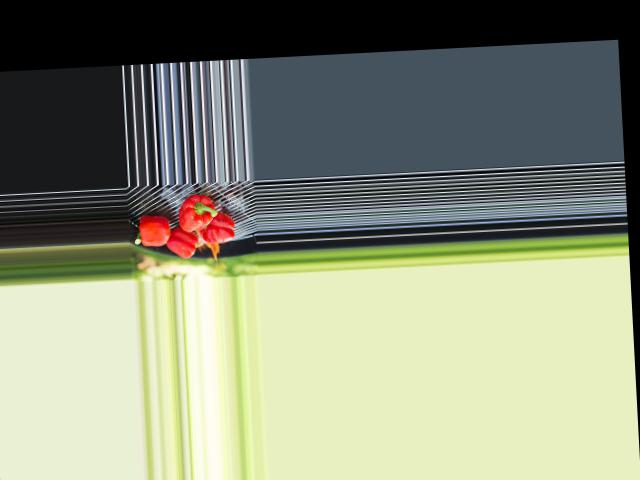bell_pepper: (198, 213, 236, 245)
